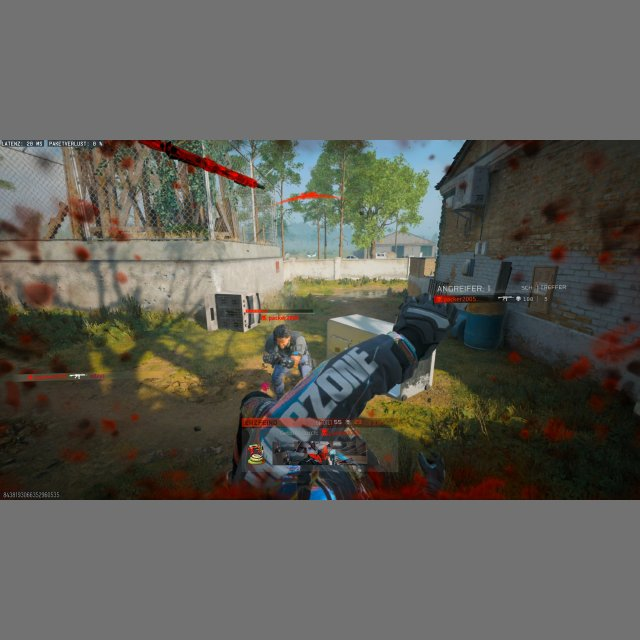head: (273, 324, 291, 347)
player: (262, 323, 309, 397)
